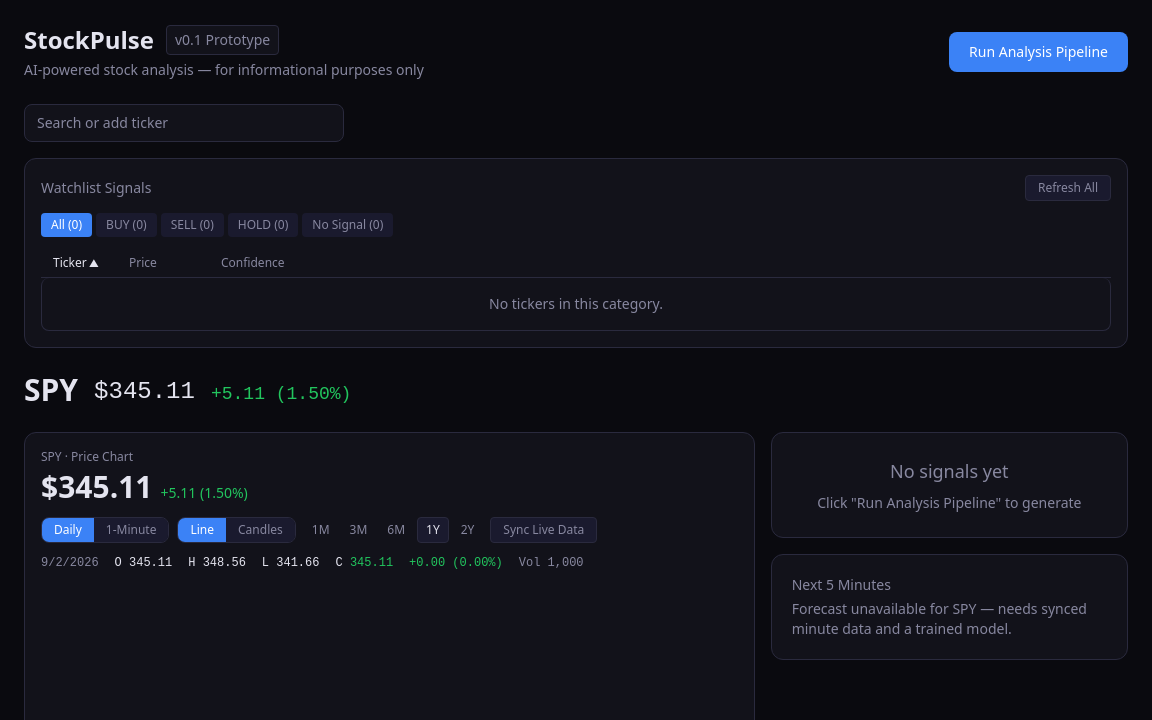
Dashboard › runs the pipeline and renders the resulting signal
Click the button "Run Analysis Pipeline": (1039, 52) [949,32,1128,72]
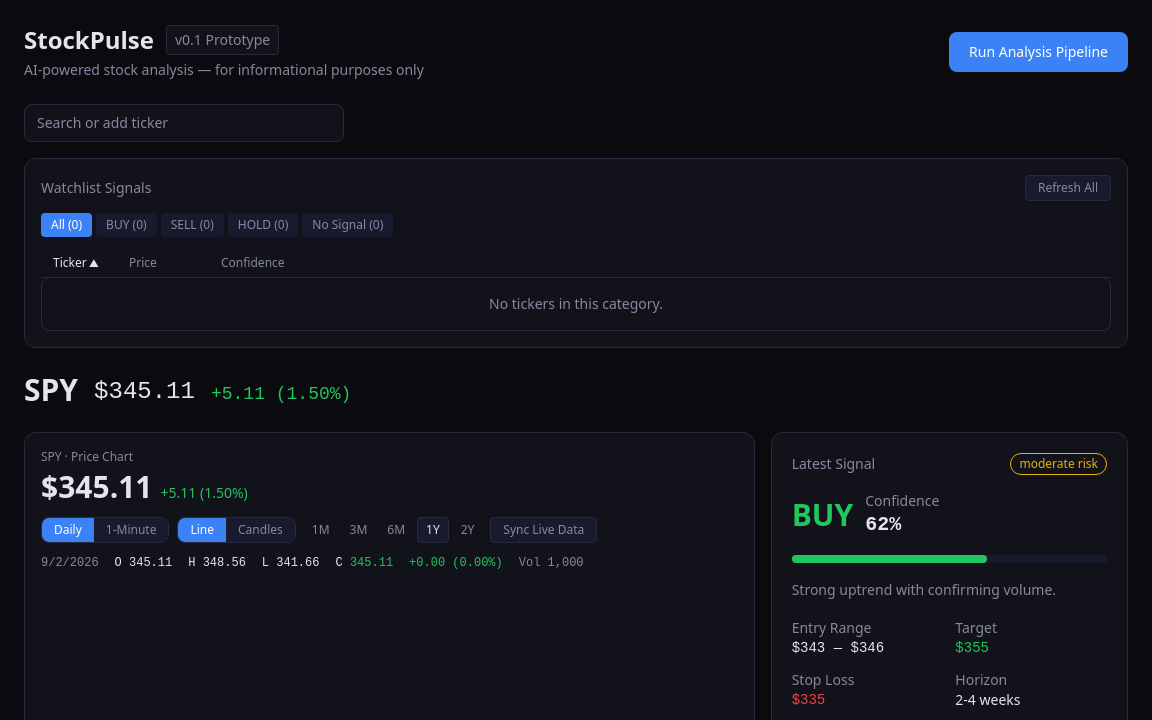
Check: the text "BUY" is shown, box [792,497,853,533]
Check: the text "Strong uptrend with confirming volume." is shown, box [792,580,1056,599]
